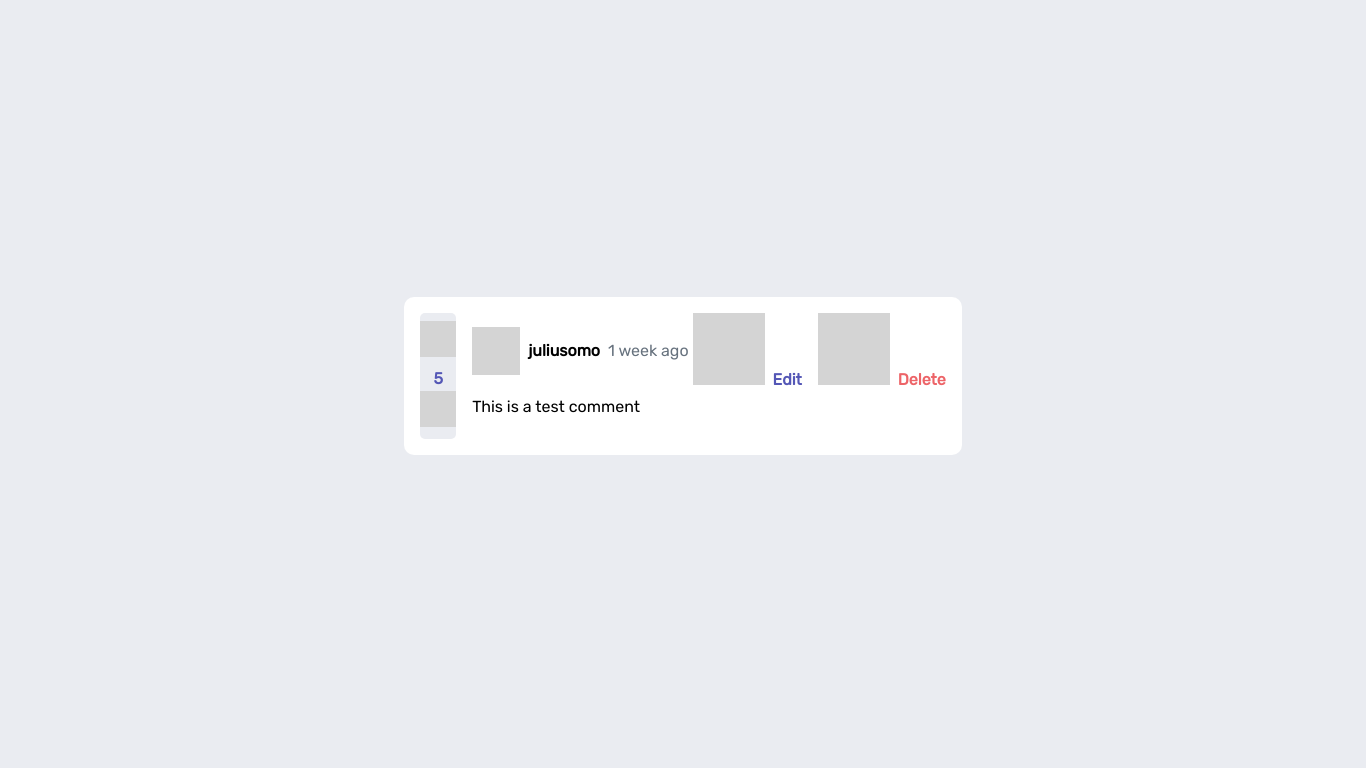
Test: Comment Component › Delete Functionality › should show delete modal when Delete is clicked
The image size is (1366, 768).
Click the button "Delete" at (882, 351), box left=818, top=313, right=946, bottom=389
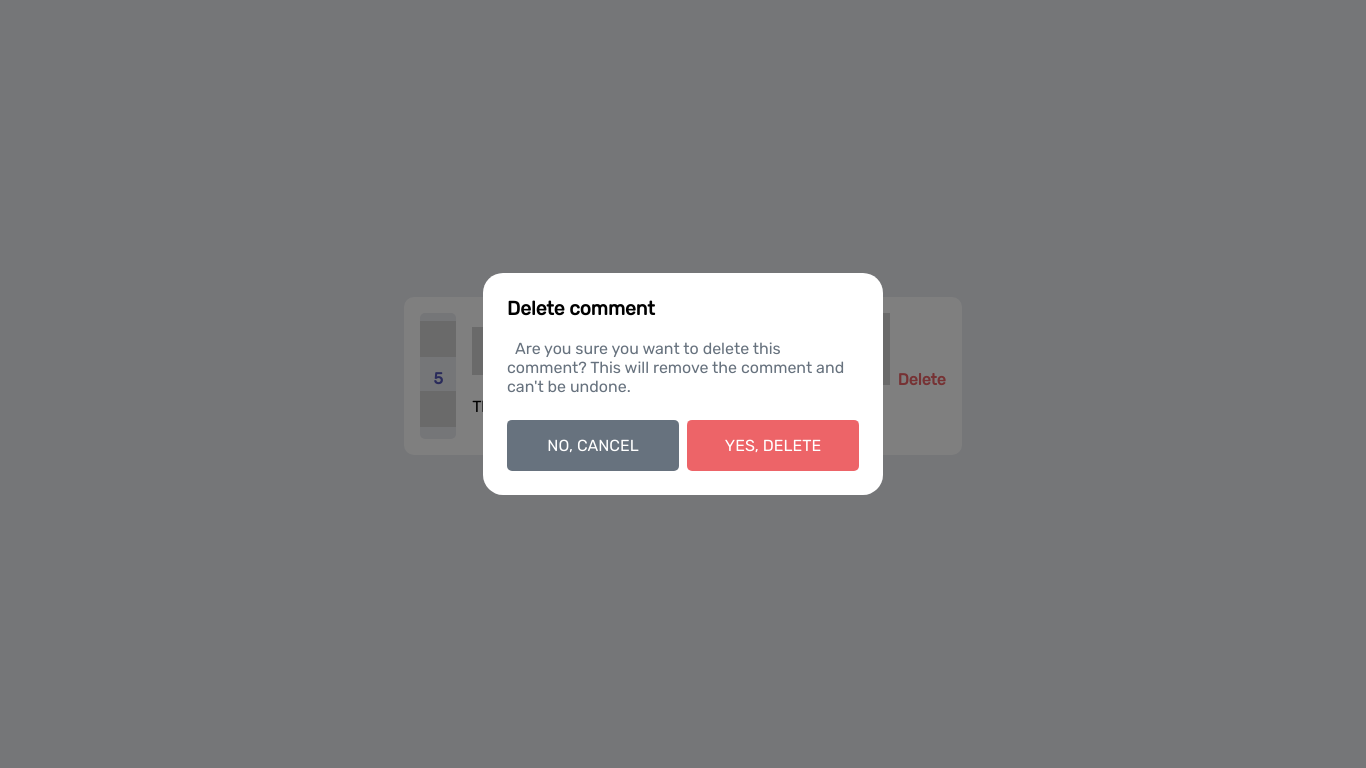
Result: the text "Delete comment" is shown at left=507, top=297, right=655, bottom=320
Result: the text "Are you sure you want to delete" is shown at left=507, top=339, right=844, bottom=396
